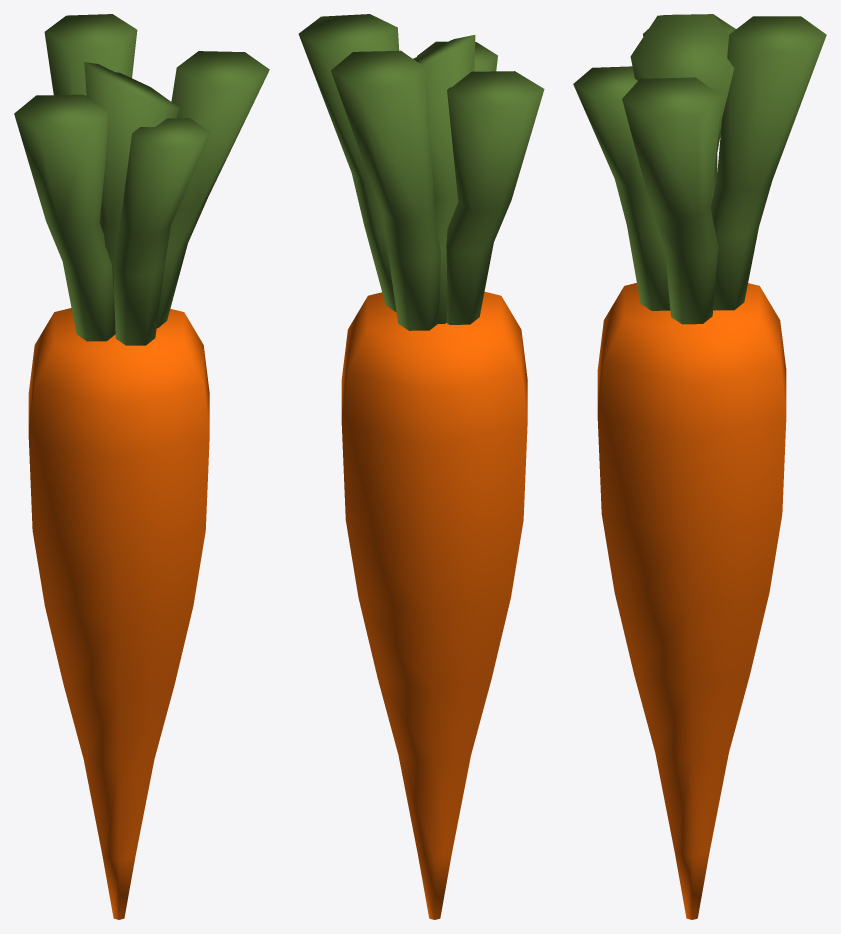
File: Carrot.glb
The picture shows the model from 3 angles, left to right: view 1: azimuth 30°, elevation 25°; view 2: azimuth 150°, elevation 25°; view 3: azimuth 270°, elevation 25°; orthographic projection. The views are drawn at different scales.
Visible parts, largest first — view 1: Carrot; view 2: Carrot; view 3: Carrot.
Boxes of the visible parts, bbox=[...] form: Carrot: bbox=[14, 14, 269, 919]; Carrot: bbox=[298, 14, 544, 919]; Carrot: bbox=[573, 14, 826, 919].
Size of the model in its own units: 1.26 by 4.55 by 1.17.
